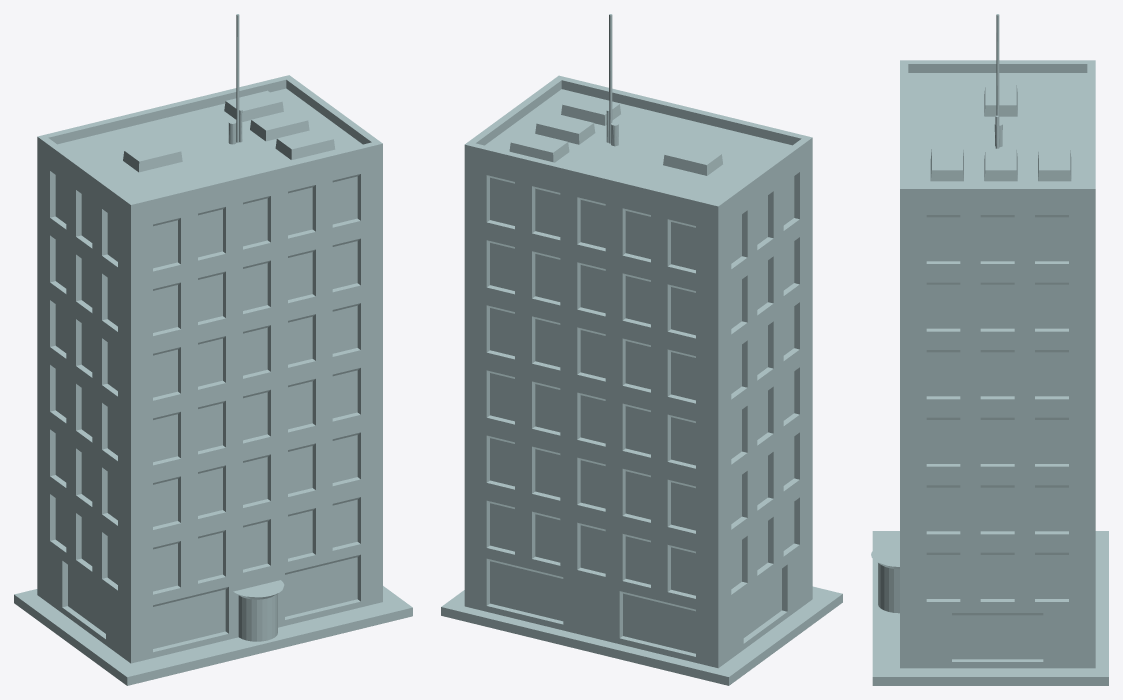
File: Copy of building.glb
3 views of the same model, side by side, from view 1: azimuth 30°, elevation 25°; view 2: azimuth 150°, elevation 25°; view 3: azimuth 270°, elevation 25° (orthographic). The views are drawn at different scales.
Visible parts, largest first — view 1: Mesh_Mesh_head_geo.001_lambert2SG.001; view 2: Mesh_Mesh_head_geo.001_lambert2SG.001; view 3: Mesh_Mesh_head_geo.001_lambert2SG.001.
Boxes of the visible parts, <box> form: Mesh_Mesh_head_geo.001_lambert2SG.001: <box>14,14,412,685</box>; Mesh_Mesh_head_geo.001_lambert2SG.001: <box>441,14,842,685</box>; Mesh_Mesh_head_geo.001_lambert2SG.001: <box>871,14,1108,685</box>.
Size of the model in its own units: 50.89 by 99.73 by 35.1.
